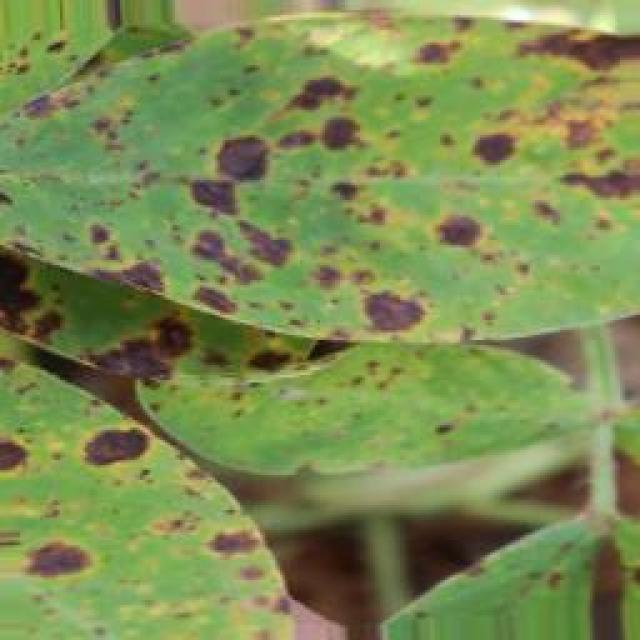Yellowish: (0, 23, 640, 640)
